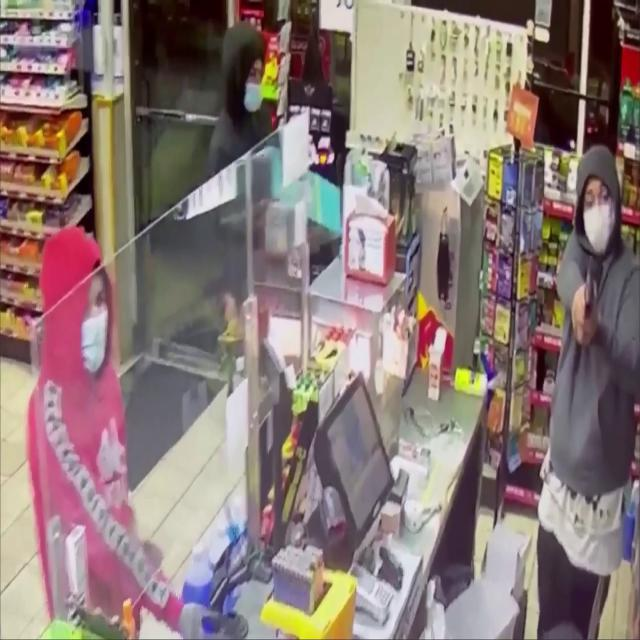Gun: (582, 270, 596, 322)
